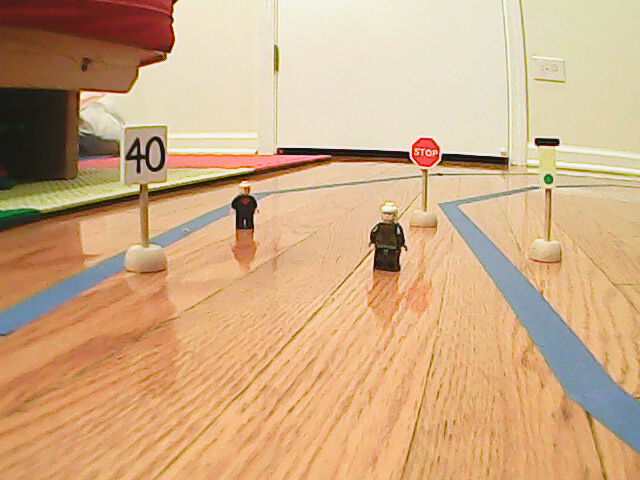Green Traffic Light: (533, 136, 563, 192)
Person: (367, 201, 409, 271), (228, 181, 261, 231)
Speed Limit 40: (123, 123, 170, 187)
Stop Sign: (408, 137, 444, 174)
